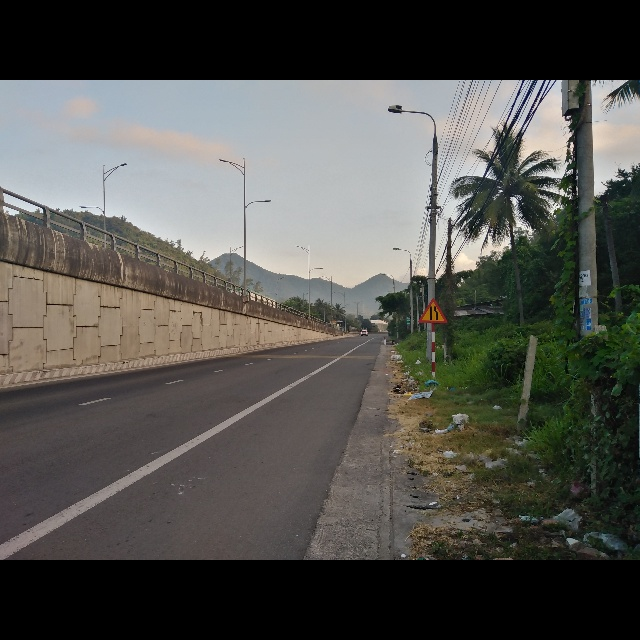Đường bị hẹp bên phải: (418, 297, 448, 324)
